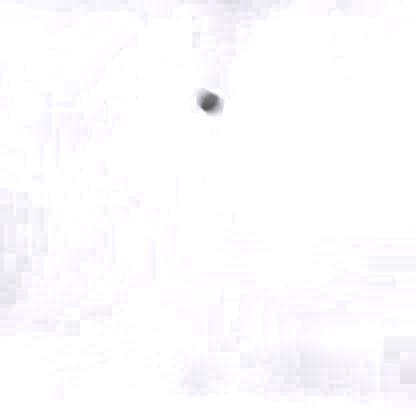golfball: (194, 89, 219, 111)
